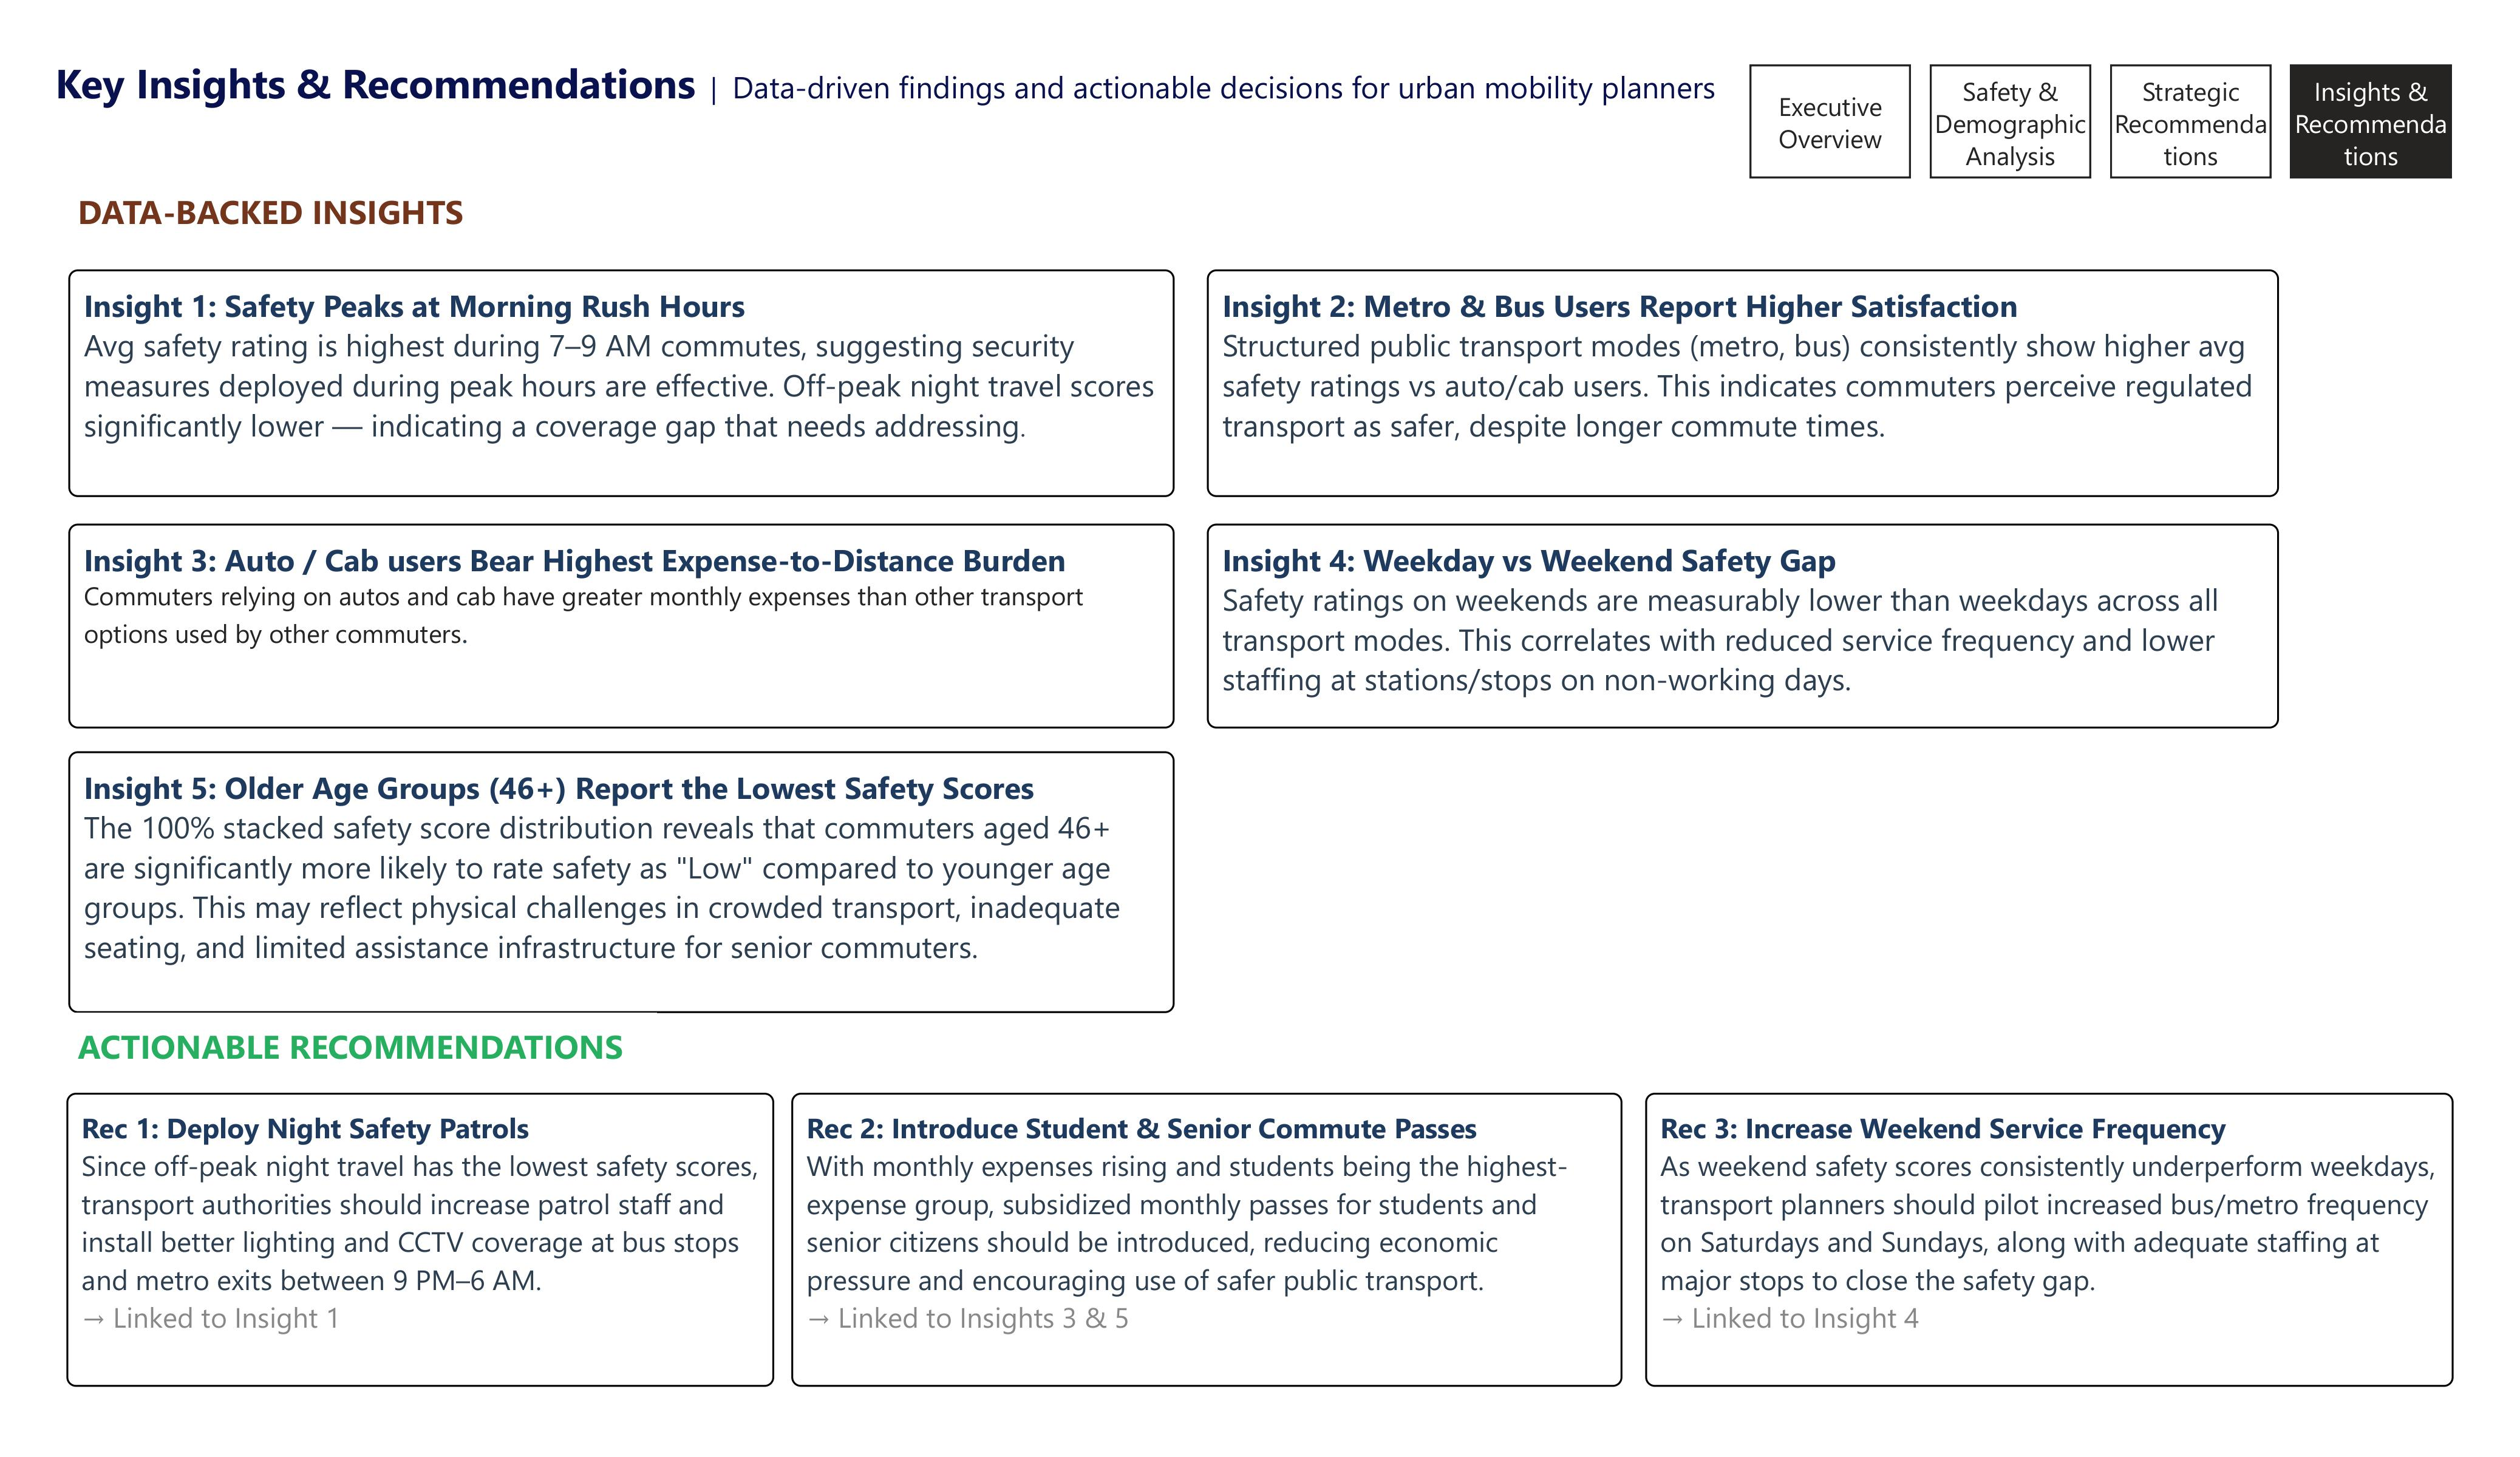

The page's visual inventory and layout, read from the dashboard file:
{"tool":"powerbi","page":{"name":"Insights & Recommendations","canvas":[1280,720],"ordinal":3},"visuals":[{"type":"textbox","box":[0,0,880,70],"z":0},{"type":"textbox","box":[12,78,830,35],"z":1000},{"type":"textbox","box":[12,118,395,100],"z":2000},{"type":"textbox","box":[420,118,395,100],"z":3000},{"type":"textbox","box":[12,228,395,100],"z":4000},{"type":"textbox","box":[420,228,395,100],"z":5000},{"type":"textbox","box":[12,338,803,80],"z":6000},{"type":"textbox","box":[12,428,830,35],"z":7000},{"type":"textbox","box":[12,468,253,155],"z":8000},{"type":"textbox","box":[276,468,253,155],"z":9000},{"type":"textbox","box":[540,468,275,155],"z":10000},{"type":"pageNavigator","box":[898,10,370,60],"z":11000}]}

Visuals, with their boxes on the page's 1280x720 design canvas (x1, y1, x2, y2). These are canvas units, not pixel positions in the 2520x1457 screenshot, which may show the page scaled, cropped or inside an application window:
textbox: l=0, t=0, r=880, b=70
textbox: l=12, t=78, r=842, b=113
textbox: l=12, t=118, r=407, b=218
textbox: l=420, t=118, r=815, b=218
textbox: l=12, t=228, r=407, b=328
textbox: l=420, t=228, r=815, b=328
textbox: l=12, t=338, r=815, b=418
textbox: l=12, t=428, r=842, b=463
textbox: l=12, t=468, r=265, b=623
textbox: l=276, t=468, r=529, b=623
textbox: l=540, t=468, r=815, b=623
pageNavigator: l=898, t=10, r=1268, b=70
